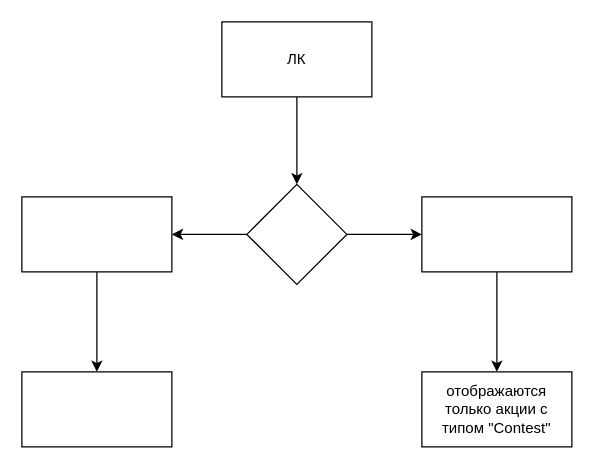
Some shapes in this 594 by 469 pixel diagram are drawn without their labels. Each missing label, with the centre of its shape:
"конкурсы" belongs at (x=496, y=234).
"промоакции" belongs at (x=96, y=234).
